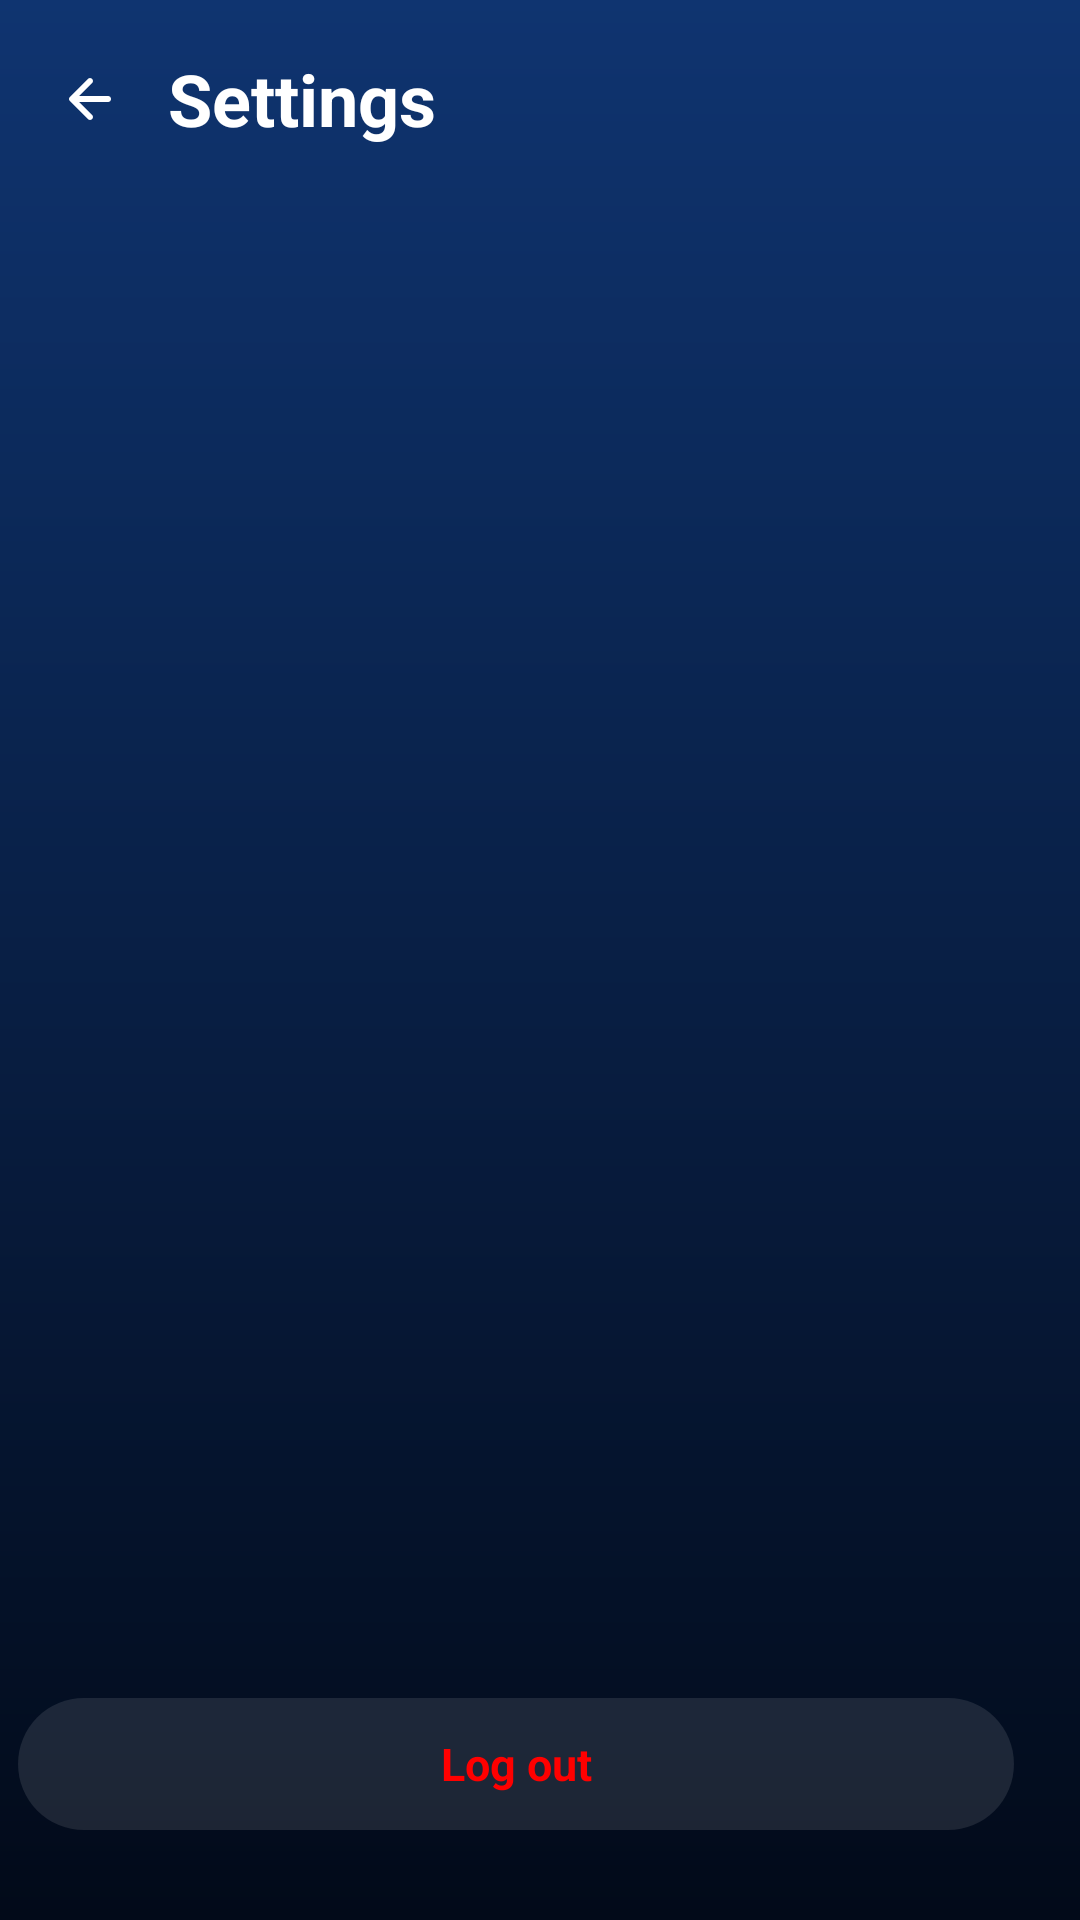

Screen size 1080px×1920px. Icon name, then its box in pixels as (x1, y1, x2, y2):
arrow back: (69, 78, 111, 120)
